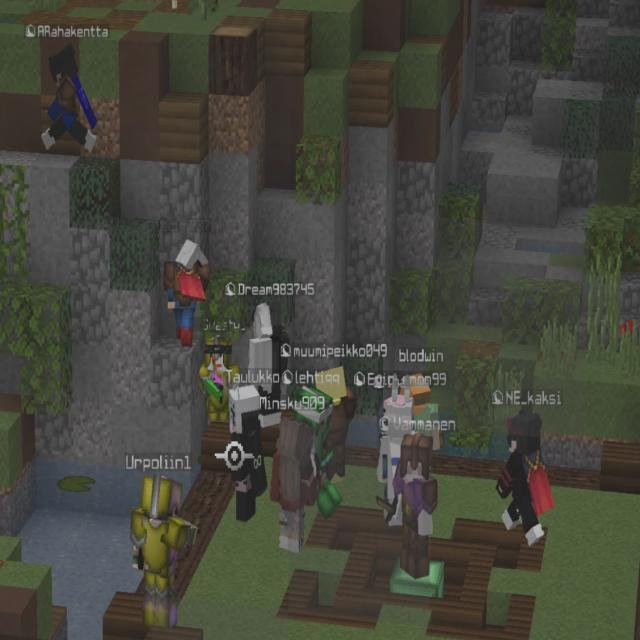Player: (494, 413, 554, 547), (392, 433, 441, 576), (40, 45, 95, 154), (271, 413, 312, 552), (249, 300, 289, 427), (229, 387, 264, 520), (166, 238, 207, 344)
